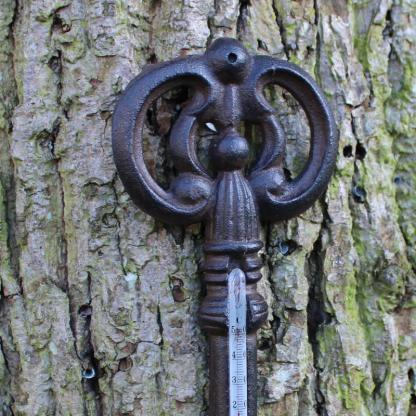key: (118, 38, 340, 415)
